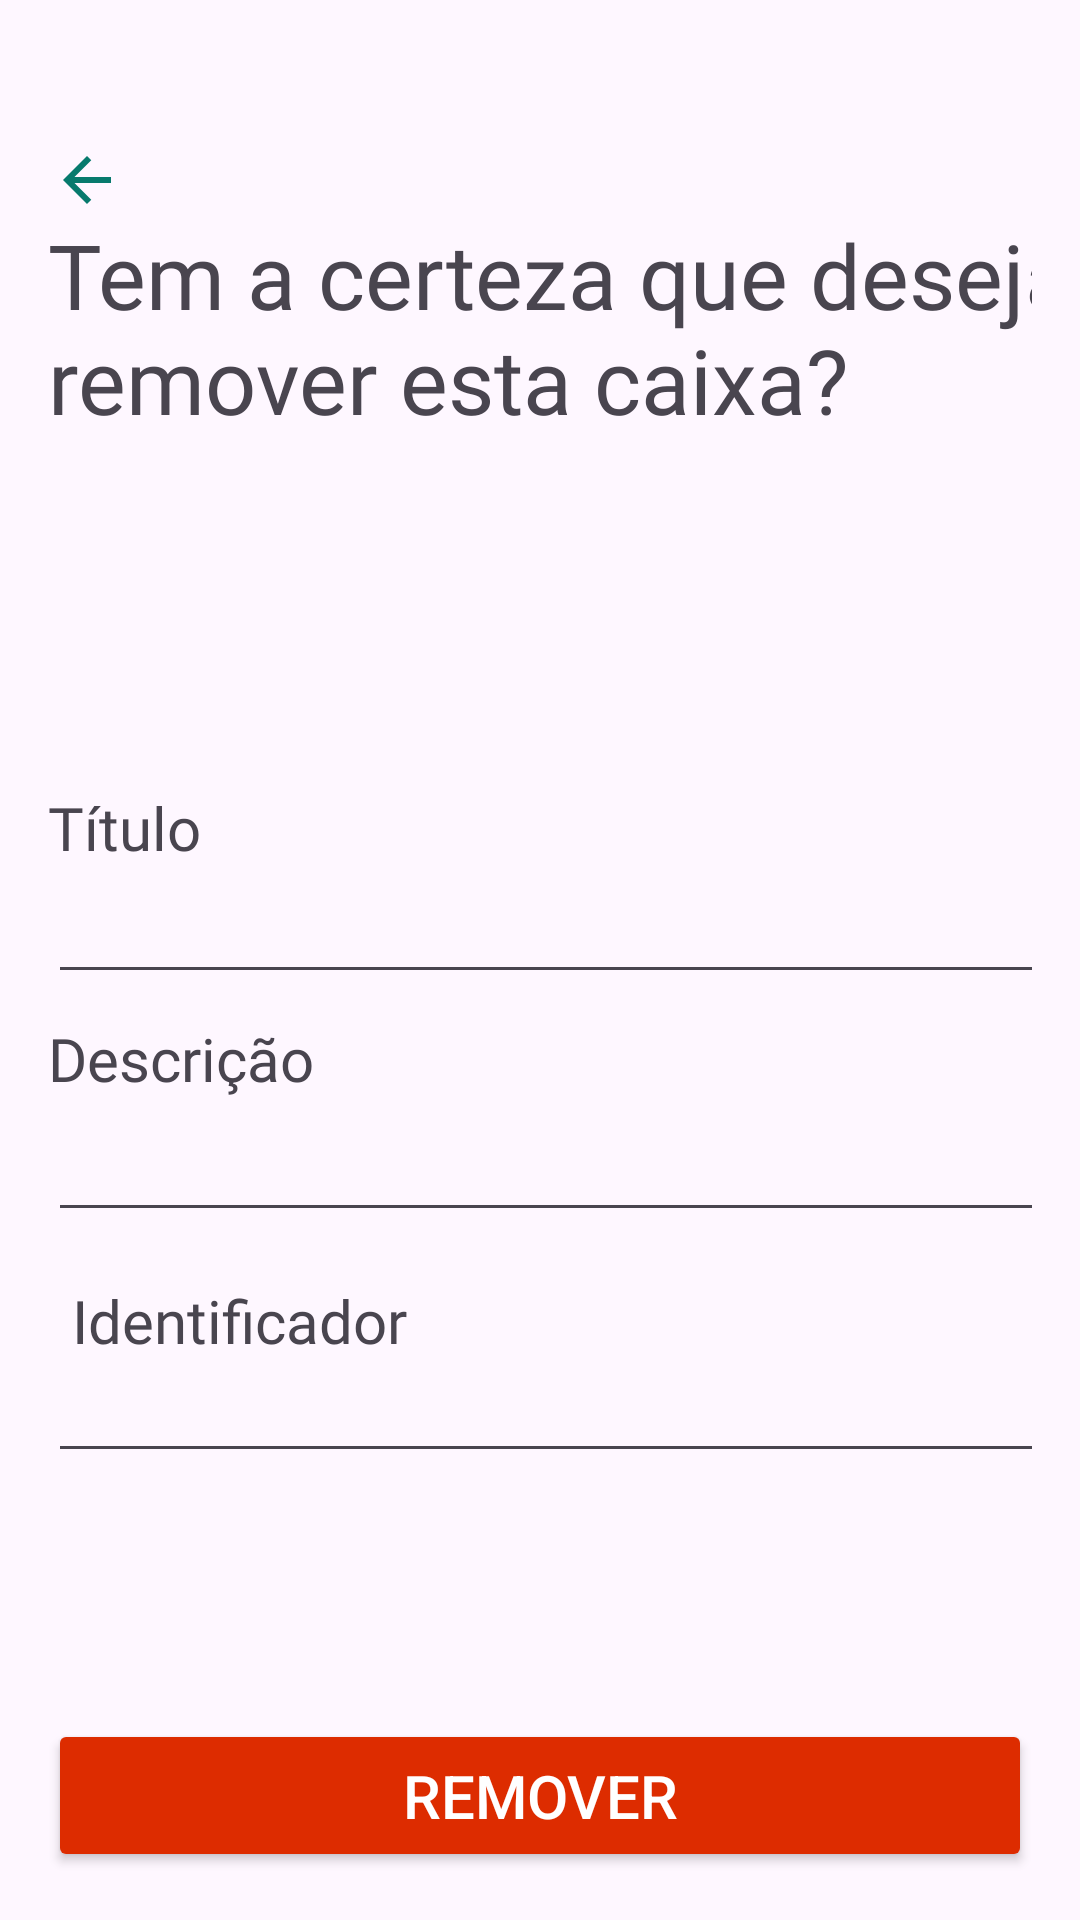

Icon click points for this 1080px×1920px phone screenshot, format (x=x, y=y):
Voltar: (x=87, y=180)
